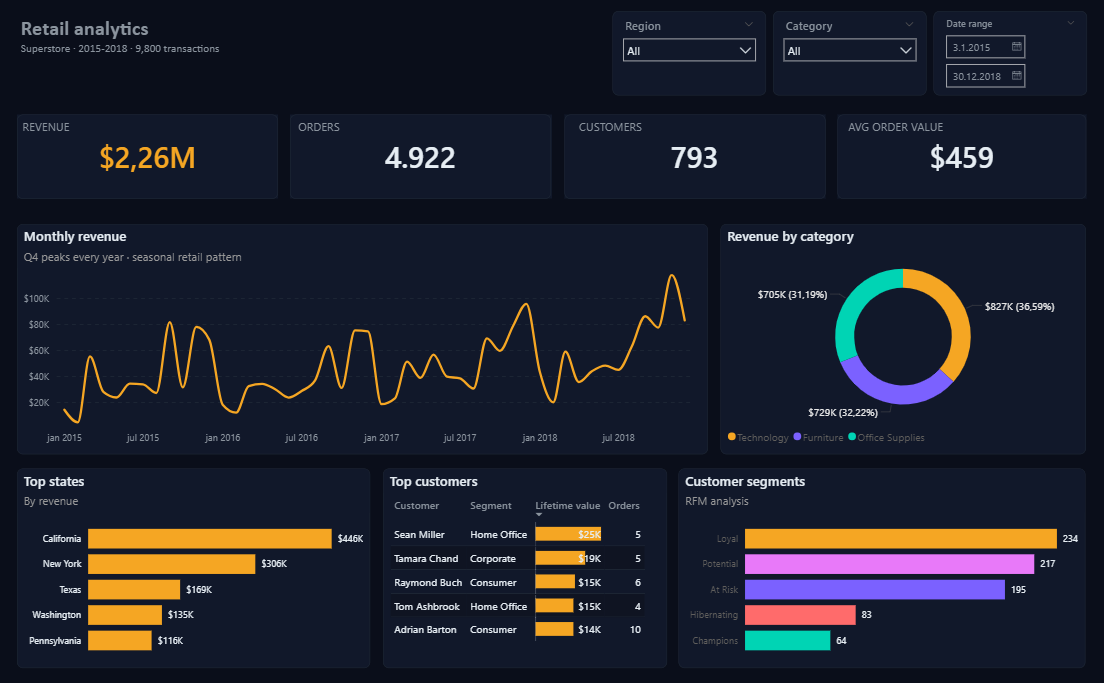

This screenshot's page, from the dashboard's own definition file:
{"tool":"powerbi","page":{"name":"Overview","canvas":[1440,900],"ordinal":0},"visuals":[{"type":"textbox","box":[23.4,23.4,297,76.2],"z":0},{"type":"card","fields":{"Values":["retail_analytics v_order_revenue.Total Revenue"]},"box":[24,158,340,110],"z":0,"group":"g1"},{"type":"card","fields":{"Values":["retail_analytics v_order_revenue.Total Orders"]},"box":[380,158,340,110],"z":0,"group":"g2"},{"type":"card","fields":{"Values":["retail_analytics v_order_revenue.Total Customers"]},"box":[736,158,340,110],"z":0,"group":"g3"},{"type":"card","fields":{"Values":["retail_analytics v_order_revenue.Avg Order Value"]},"box":[1092,158,324,110],"z":0,"group":"g4"},{"type":"slicer","fields":{"Values":["retail_analytics v_order_revenue.region_name"]},"box":[800,24,200,110],"z":1000},{"type":"textbox","box":[24.3,158.6,75.7,42.9],"z":1000,"group":"g1"},{"type":"slicer","fields":{"Values":["retail_analytics v_order_revenue.category"]},"box":[1008,24,200,110],"z":2000},{"type":"slicer","fields":{"Values":["retail_analytics v_order_revenue.order_date"]},"box":[1216.7,23.3,200,110],"z":3000},{"type":"group","id":"g1","title":"Group 1","box":[24,158,340,110],"z":4000},{"type":"group","id":"g2","title":"Group 1","box":[380,158,340,110],"z":5000},{"type":"textbox","box":[380,158.6,75.7,42.9],"z":6000},{"type":"group","id":"g3","title":"Group 1","box":[736,158,340,110],"z":7000},{"type":"textbox","box":[736.7,158.3,120,38.3],"z":8000},{"type":"group","id":"g4","title":"Group 1","box":[1092,158,324,110],"z":9000},{"type":"textbox","box":[1091.7,158.3,151.7,41.7],"z":10000},{"type":"lineChart","title":"Monthly revenue","fields":{"Category":["retail_analytics v_order_revenue.Start of Month.Variation.Date Hierarchy.Year","retail_analytics v_order_revenue.Start of Month.Variation.Date Hierarchy.Quarter","retail_analytics v_order_revenue.Start of Month.Variation.Date Hierarchy.Month","retail_analytics v_order_revenue.Start of Month.Variation.Date Hierarchy.Day"],"Y":["Sum(retail_analytics v_order_revenue.sales)"]},"box":[24,300,900,300],"z":11000},{"type":"donutChart","title":"Revenue by category","fields":{"Category":["retail_analytics v_order_revenue.category"],"Y":["Sum(retail_analytics v_order_revenue.sales)"]},"box":[940,300,476,300],"z":12000},{"type":"barChart","title":"Top states","fields":{"Category":["retail_analytics v_regional_sales.state"],"Y":["Sum(retail_analytics v_regional_sales.revenue)"]},"box":[24,620,460,260],"z":13000},{"type":"tableEx","title":"Top customers","fields":{"Values":["retail_analytics v_order_revenue.customer_name","retail_analytics v_order_revenue.segment","Sum(retail_analytics v_order_revenue.sales)","retail_analytics v_order_revenue.order_id"]},"box":[500,620,370,260],"z":14000},{"type":"barChart","title":"Customer segments","fields":{"Category":["retail_analytics v_customer_rfm.rfm_segment"],"Y":["CountNonNull(retail_analytics v_customer_rfm.customer_id)"]},"box":[886,620,530,260],"z":15000}]}

Visuals, with their boxes in screenshot pixels (x1, y1, x2, y2), scaled from the page's 1440x900 canvas onto the 1104x683 screenshot:
textbox: pyautogui.locateOnScreen(18, 18, 246, 76)
card - retail_analytics v_order_revenue.Total Revenue: pyautogui.locateOnScreen(18, 120, 279, 203)
card - retail_analytics v_order_revenue.Total Orders: pyautogui.locateOnScreen(291, 120, 552, 203)
card - retail_analytics v_order_revenue.Total Customers: pyautogui.locateOnScreen(564, 120, 825, 203)
card - retail_analytics v_order_revenue.Avg Order Value: pyautogui.locateOnScreen(837, 120, 1086, 203)
slicer - retail_analytics v_order_revenue.region_name: pyautogui.locateOnScreen(613, 18, 767, 102)
textbox: pyautogui.locateOnScreen(19, 120, 77, 153)
slicer - retail_analytics v_order_revenue.category: pyautogui.locateOnScreen(773, 18, 926, 102)
slicer - retail_analytics v_order_revenue.order_date: pyautogui.locateOnScreen(933, 18, 1086, 101)
"Group 1" group: pyautogui.locateOnScreen(18, 120, 279, 203)
"Group 1" group: pyautogui.locateOnScreen(291, 120, 552, 203)
textbox: pyautogui.locateOnScreen(291, 120, 349, 153)
"Group 1" group: pyautogui.locateOnScreen(564, 120, 825, 203)
textbox: pyautogui.locateOnScreen(565, 120, 657, 149)
"Group 1" group: pyautogui.locateOnScreen(837, 120, 1086, 203)
textbox: pyautogui.locateOnScreen(837, 120, 953, 152)
"Monthly revenue" lineChart: pyautogui.locateOnScreen(18, 228, 708, 455)
"Revenue by category" donutChart: pyautogui.locateOnScreen(721, 228, 1086, 455)
"Top states" barChart: pyautogui.locateOnScreen(18, 471, 371, 668)
"Top customers" tableEx: pyautogui.locateOnScreen(383, 471, 667, 668)
"Customer segments" barChart: pyautogui.locateOnScreen(679, 471, 1086, 668)
